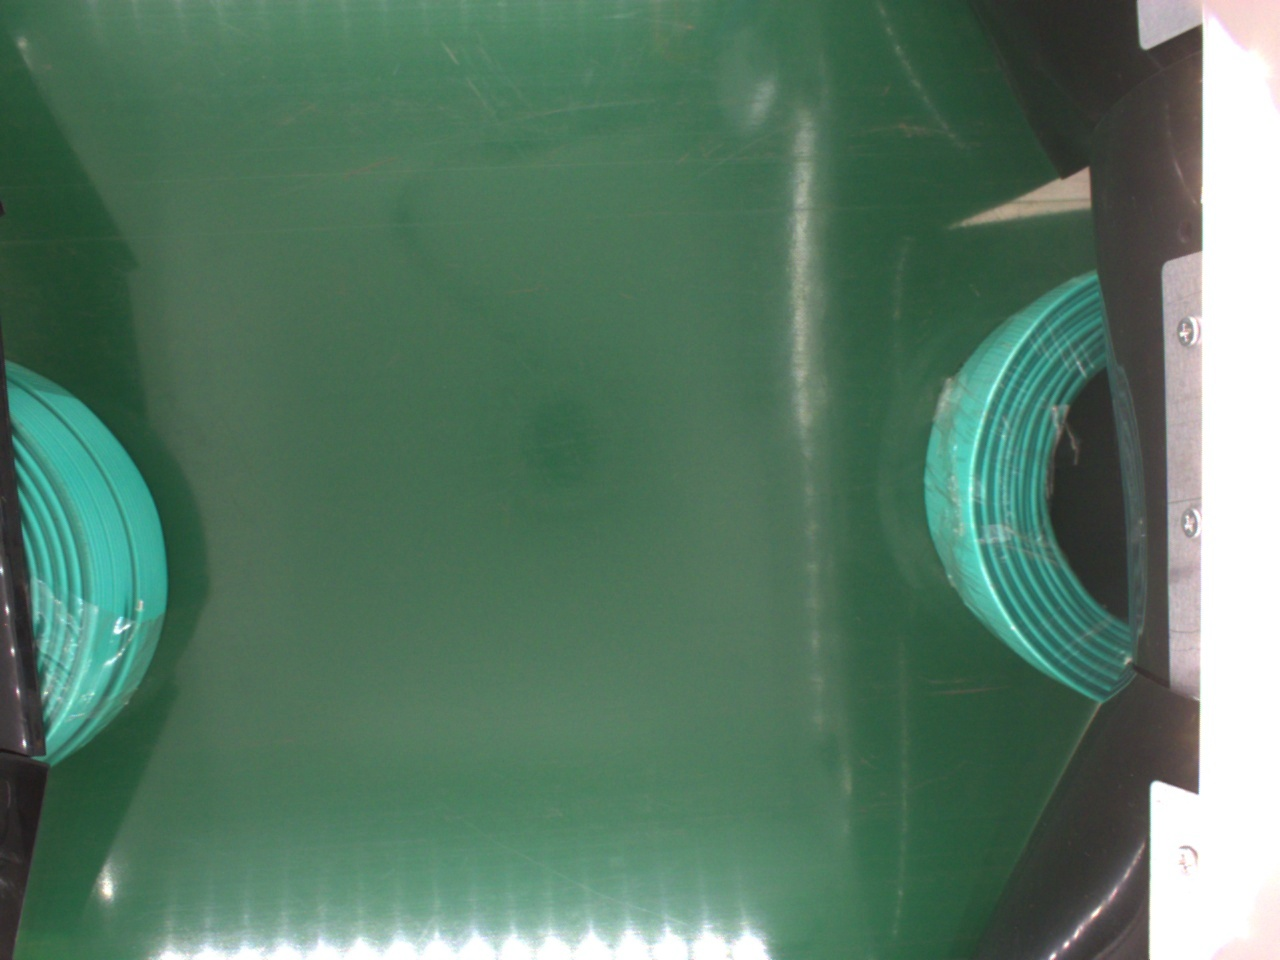green: (927, 270, 1128, 711), (3, 360, 169, 769)
